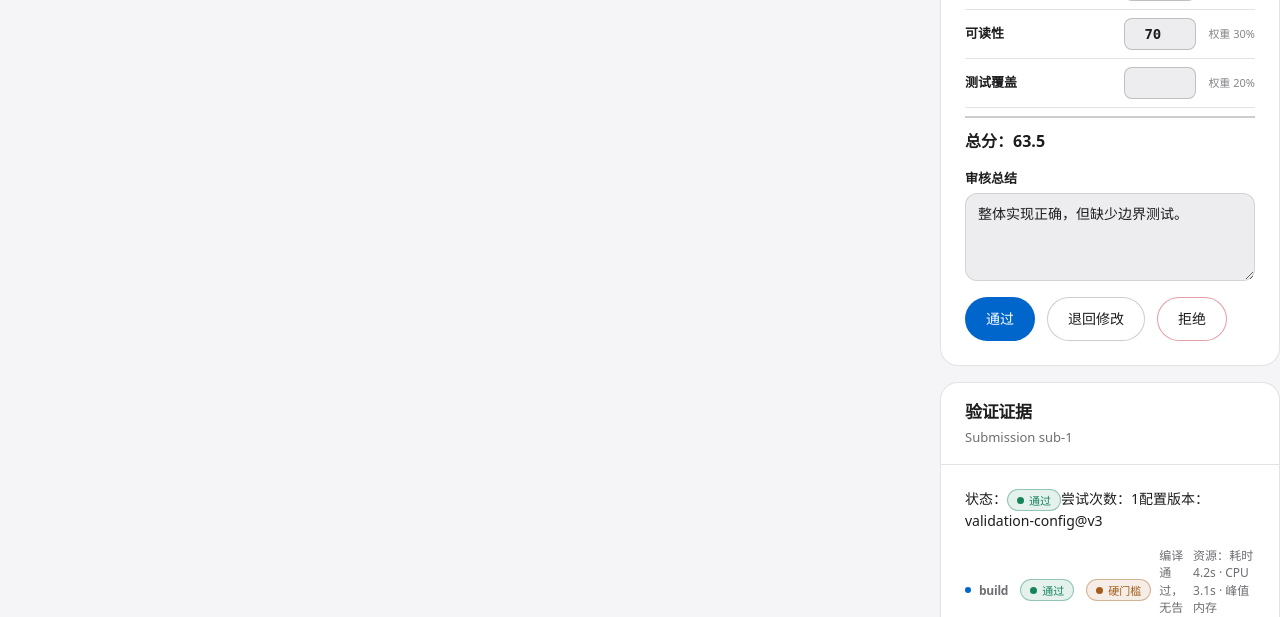
Test: ReviewPage › displays hard-gate error when accepting a submission with failed hard gates
This screenshot has width=1280, height=617.
(page scrolled)
Step 1. Click the button "通过" → (1000, 319), box [965,297,1035,341]
(page scrolled)
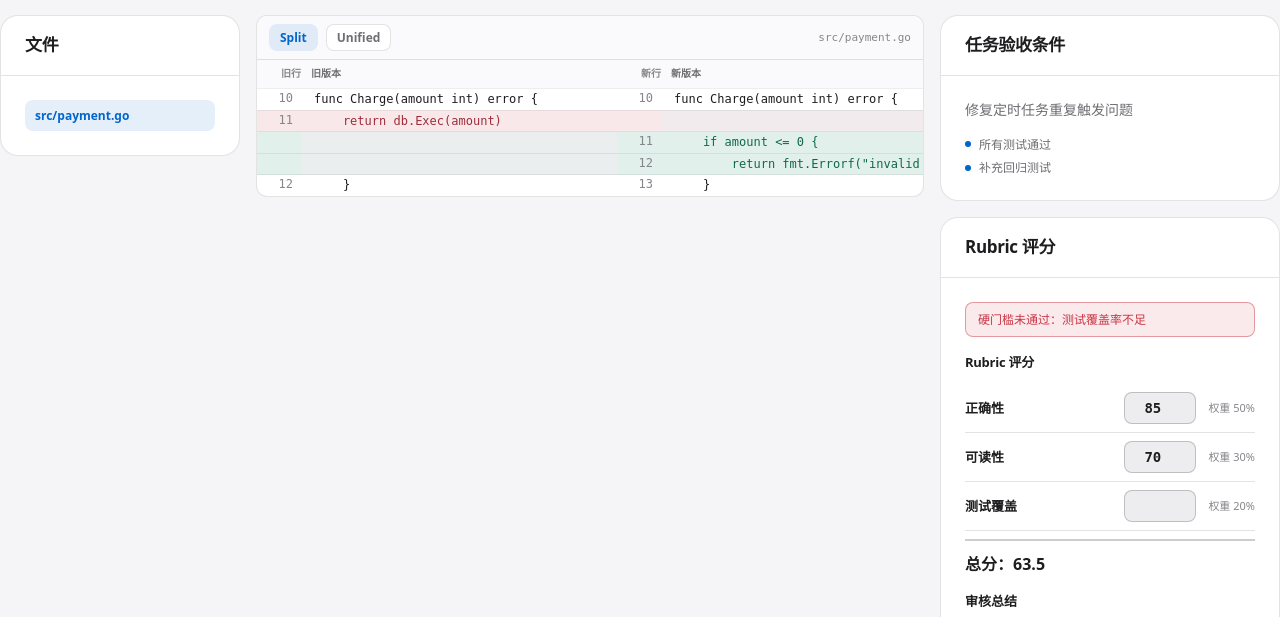
Expected: the message reads "硬门槛未通过：测试覆盖率不足", [978,311,1146,328]
